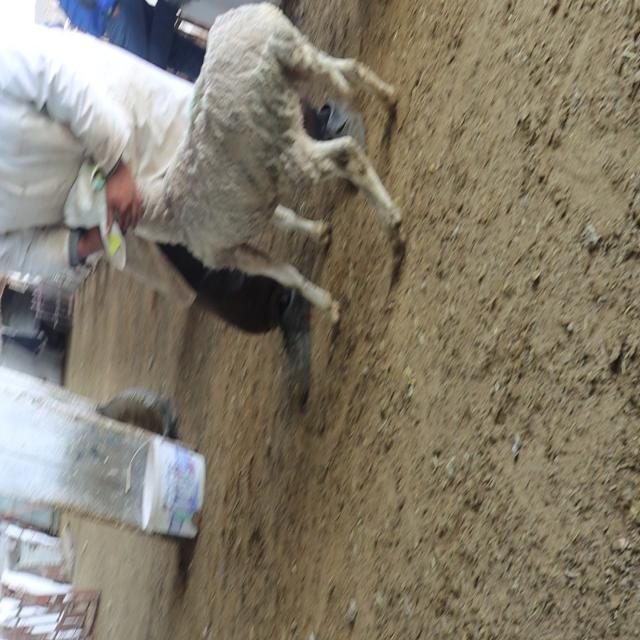Score_1: (135, 3, 404, 324)
